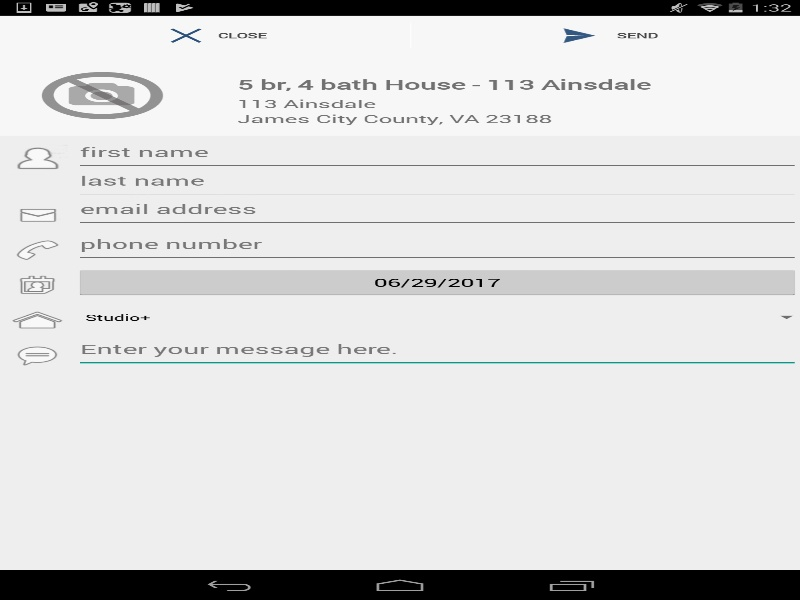Button: (74, 267, 800, 297)
Input: (74, 140, 800, 169), (74, 169, 800, 197), (74, 197, 800, 225), (74, 232, 800, 260), (74, 337, 800, 365)
